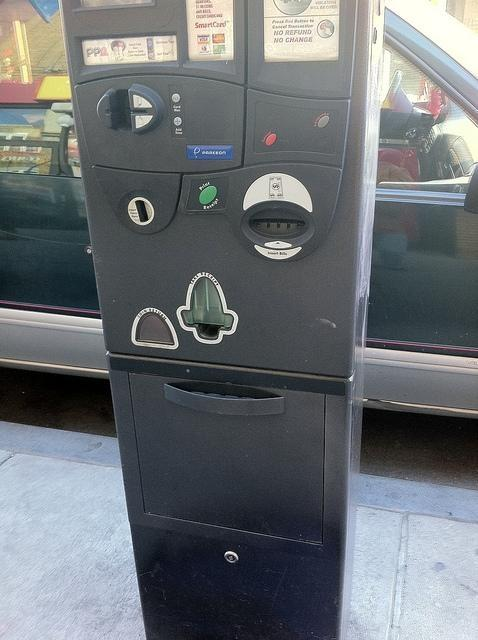truck: (0, 0, 478, 429)
